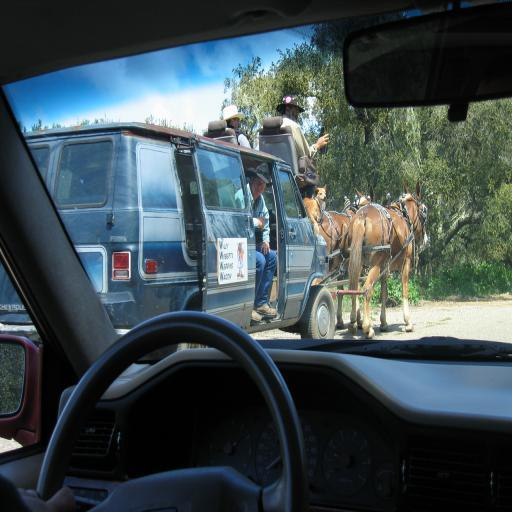horse: (348, 180, 430, 340), (318, 184, 376, 330)
